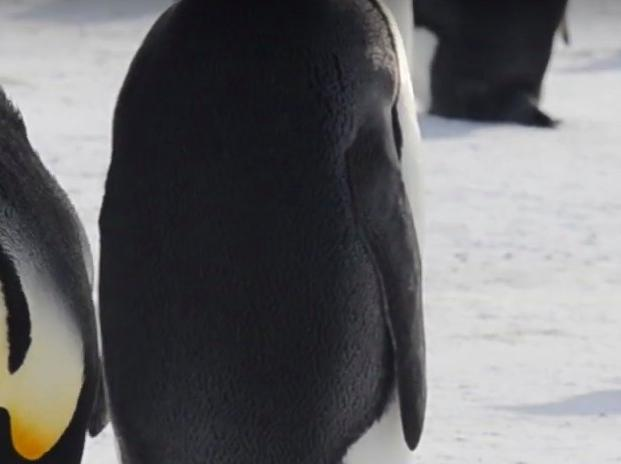Emperor Penguin: (0, 53, 115, 464)
